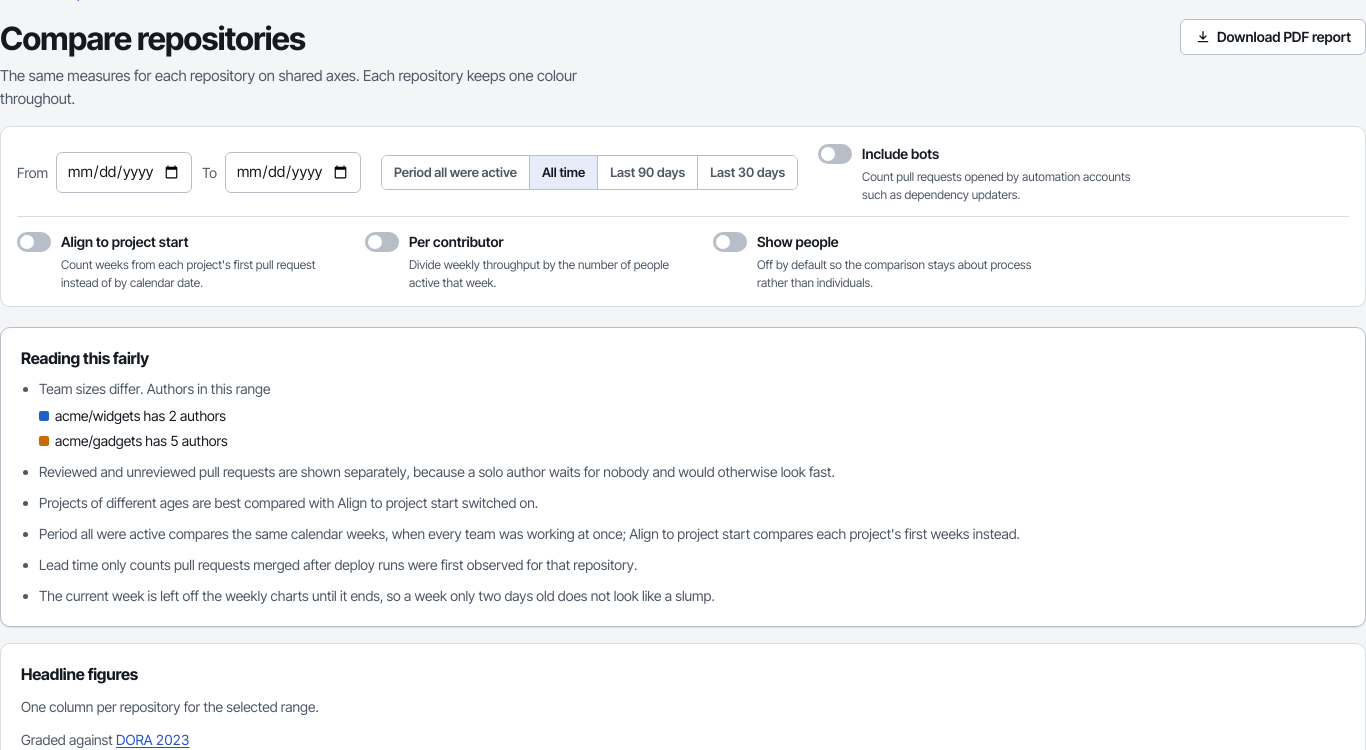
ComparePage › keeps Show people off by default and reveals the authors tables when switched on
Check: the column heading "Reviews given" is not shown
Click the switch labelled "Show people" at (730, 242), box [713,229,1033,254]
(page scrolled)
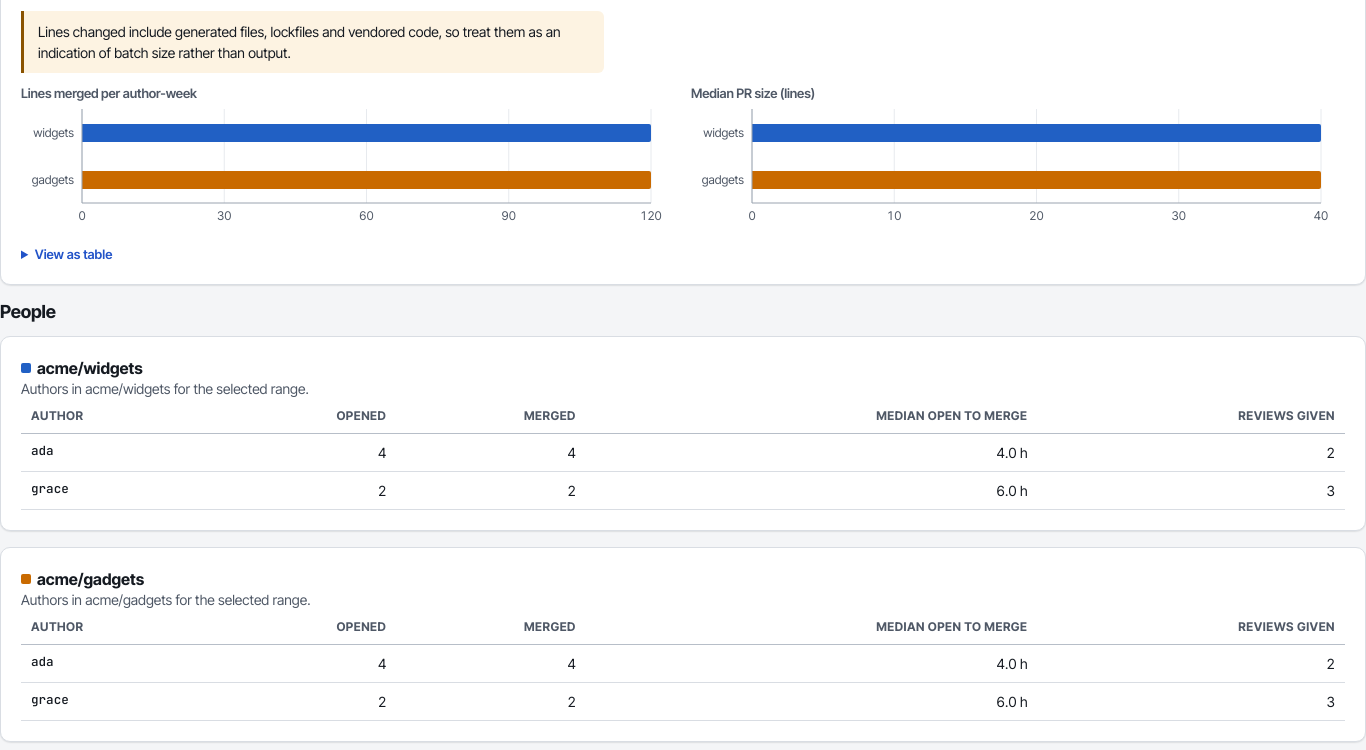
Check: the heading "People" is shown, box [0,301,56,322]
Check: the number of column headings "Reviews given" is 2, box [1038,399,1345,433]; [1038,610,1345,644]
Check: the 1st column heading "ada" is shown, box [21,434,212,471]
